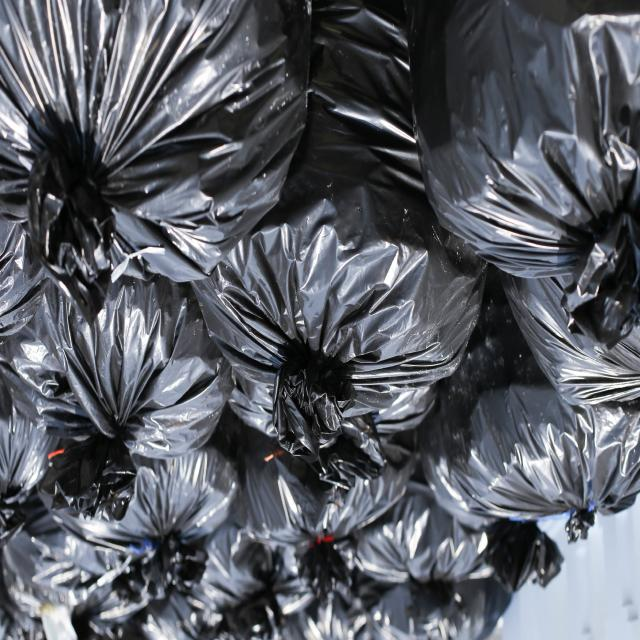Single-layer Plastic: (192, 8, 485, 461), (0, 0, 310, 320), (409, 0, 640, 347), (420, 276, 640, 540), (0, 277, 232, 519), (0, 378, 200, 639), (352, 482, 562, 639), (236, 431, 415, 615), (52, 447, 238, 603), (141, 519, 279, 639)
